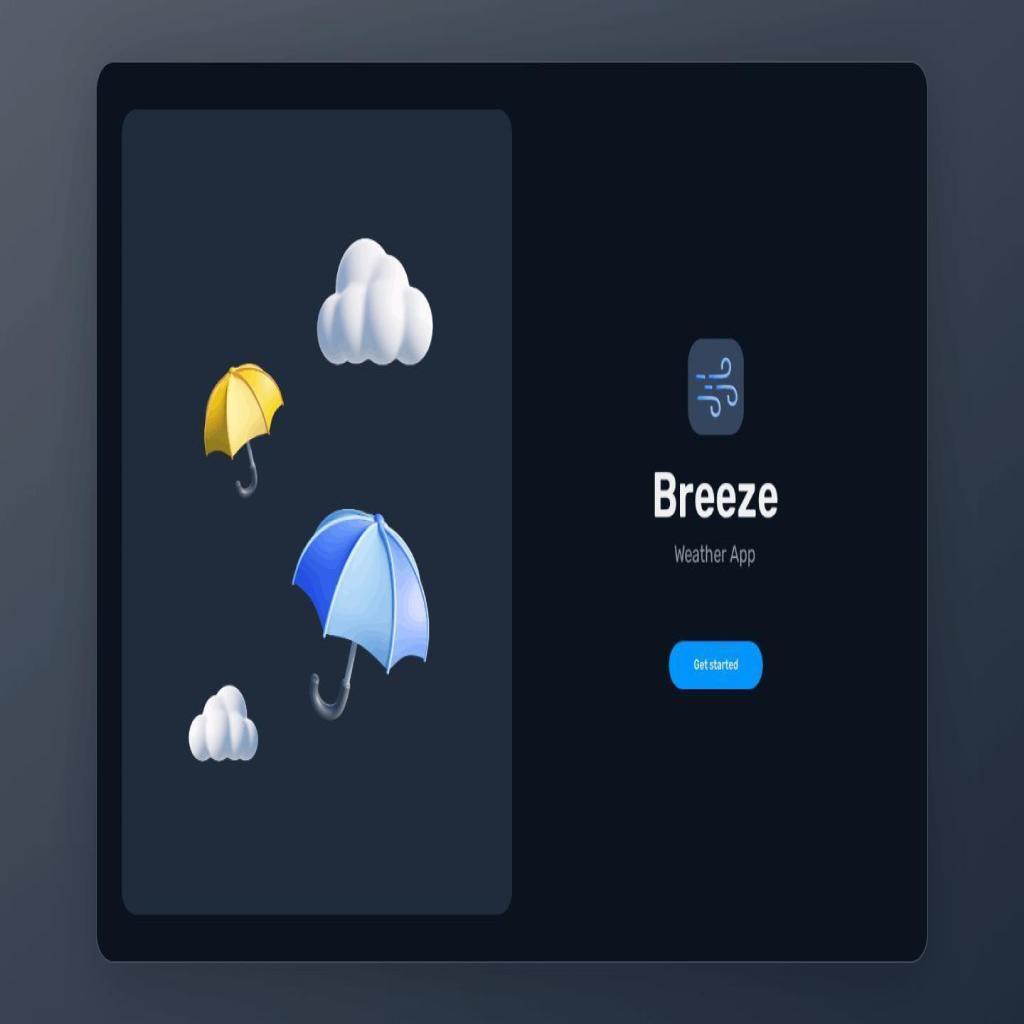button: (667, 636, 764, 698)
